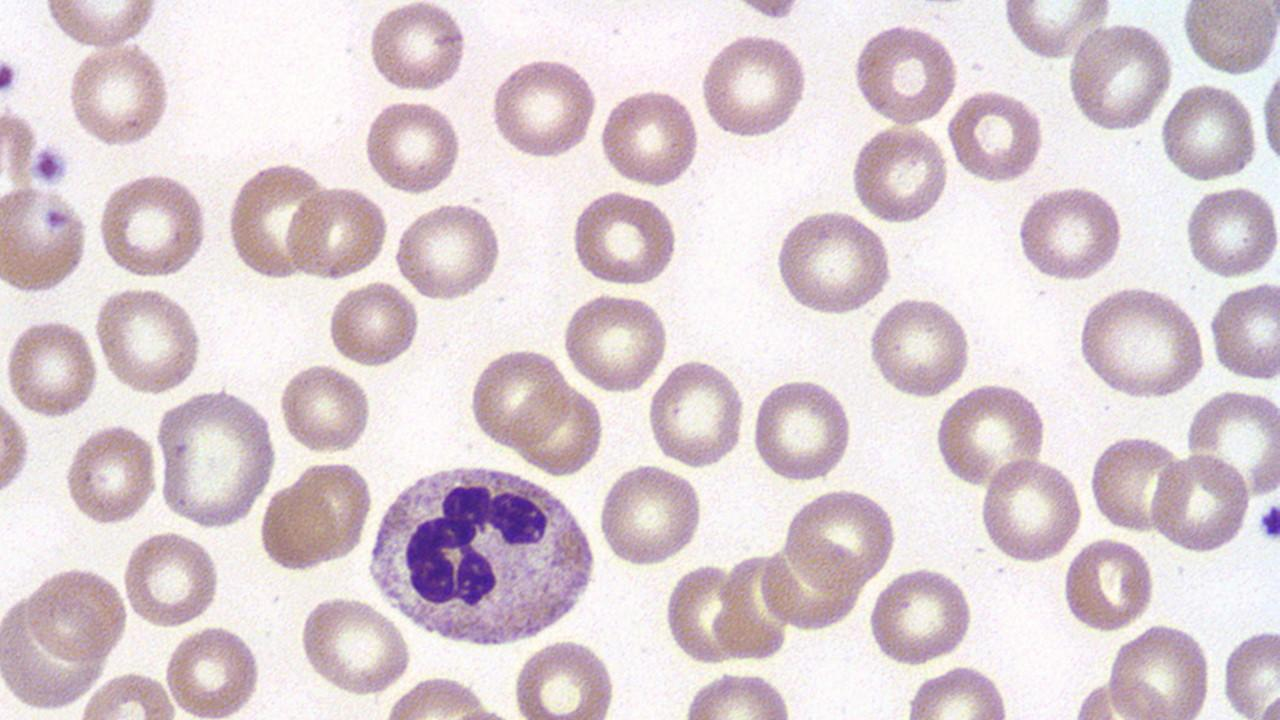Platelets: (31, 140, 71, 189), (1254, 502, 1280, 545), (0, 53, 20, 101)
RBC: (152, 386, 278, 530), (1074, 283, 1208, 400), (772, 207, 896, 318), (1064, 18, 1174, 136), (224, 158, 328, 282), (91, 283, 206, 394), (95, 170, 211, 280), (932, 381, 1049, 490), (698, 29, 812, 140), (63, 40, 176, 150), (297, 592, 414, 698), (486, 55, 600, 161), (646, 355, 749, 471), (393, 198, 506, 303), (864, 565, 978, 669), (783, 486, 899, 588), (864, 295, 976, 400), (848, 22, 961, 126), (978, 455, 1084, 565), (748, 374, 854, 484), (596, 461, 704, 568), (560, 290, 672, 393), (1014, 183, 1128, 284), (568, 189, 683, 288), (1185, 384, 1279, 504), (256, 468, 361, 572), (596, 86, 701, 190), (467, 344, 568, 452), (1105, 619, 1215, 718), (1148, 450, 1252, 554), (1157, 80, 1261, 184), (23, 564, 127, 667), (848, 122, 951, 224), (283, 183, 388, 283), (1, 316, 101, 420), (62, 421, 161, 526), (120, 528, 222, 628), (362, 97, 464, 196), (160, 622, 265, 718), (0, 184, 89, 296), (946, 87, 1047, 184), (366, 0, 468, 96), (1060, 536, 1158, 635), (1182, 182, 1278, 282), (1087, 432, 1181, 534), (509, 636, 621, 717), (279, 361, 374, 455), (513, 381, 605, 478), (662, 561, 745, 666), (325, 278, 420, 369), (1178, 0, 1280, 76), (1208, 277, 1280, 383), (999, 2, 1113, 62), (40, 2, 164, 50), (1220, 622, 1280, 716), (682, 670, 798, 718), (0, 389, 31, 506), (1257, 52, 1279, 180)
WBC: (363, 456, 596, 652)
